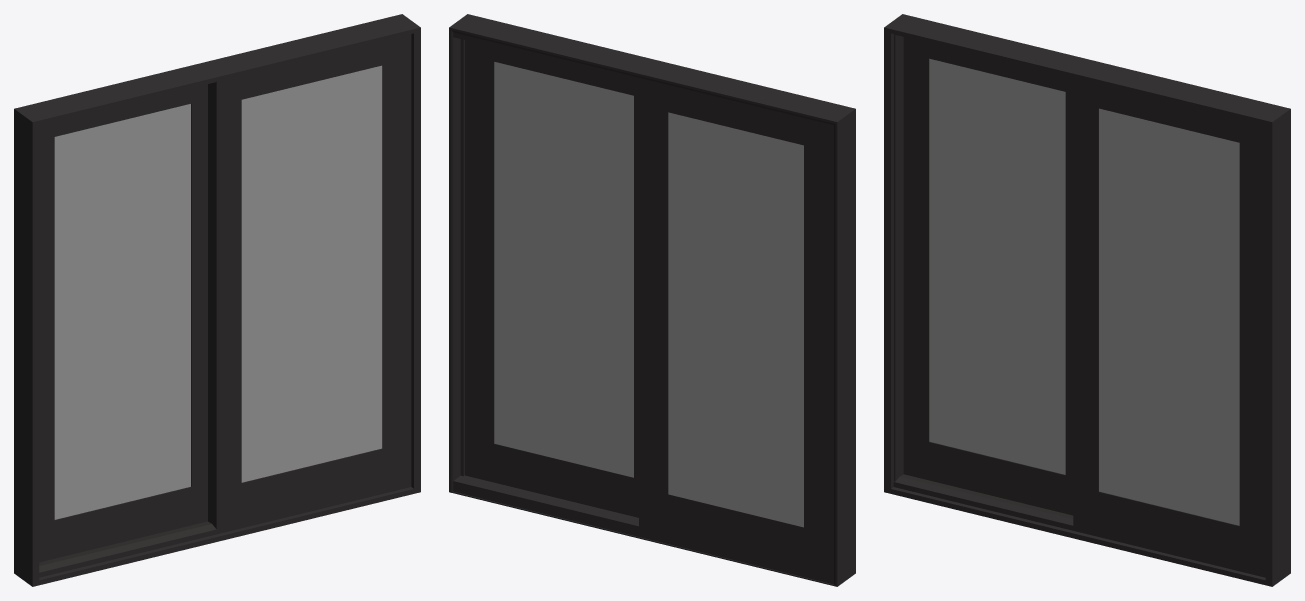
The model's file is doors.glb.
3 renders of one model, left to right at view 1: azimuth 30°, elevation 25°; view 2: azimuth 150°, elevation 25°; view 3: azimuth 330°, elevation 25°, orthographic.
Parts seen in each view (by area): view 1: 3d-model; view 2: 3d-model; view 3: 3d-model.
Part boxes in pixels (left/top/right/bottom): 3d-model: left=14, top=14, right=420, bottom=586; 3d-model: left=449, top=14, right=855, bottom=586; 3d-model: left=884, top=14, right=1290, bottom=586.
Bounding box in the file's own units: 1.91 × 2.18 × 0.1569.
2 materials, 1 textured.
